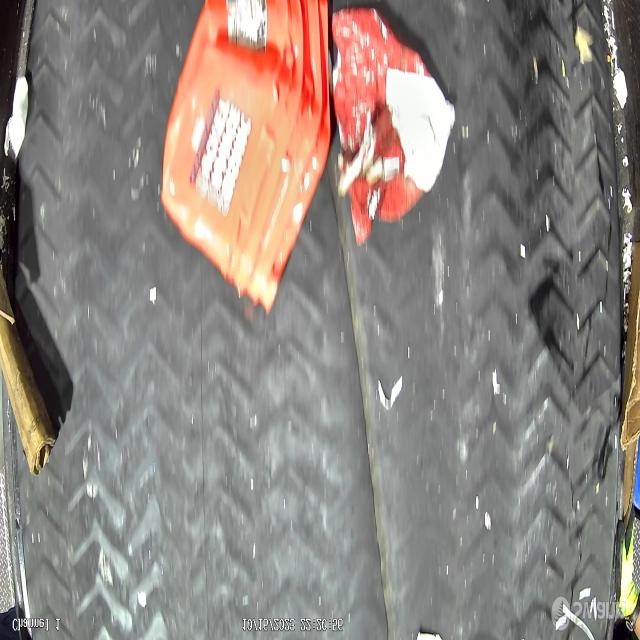non_white_jug: (161, 0, 331, 315)
